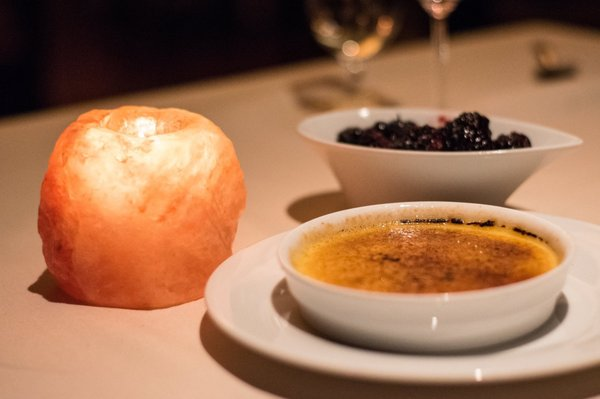sushi: (275, 199, 573, 355), (296, 105, 584, 209)
taco: (36, 106, 248, 311)
